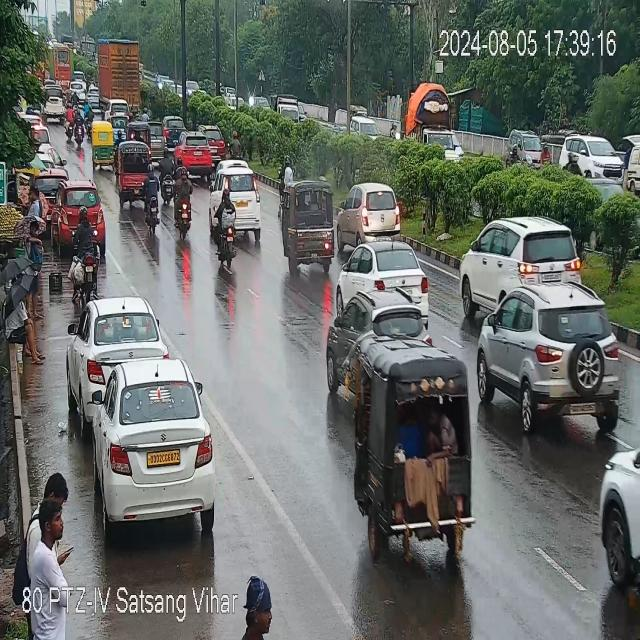2-wheelers: (67, 205, 101, 304), (153, 150, 191, 235), (235, 570, 275, 637), (212, 188, 240, 257), (140, 158, 164, 237), (157, 147, 181, 202), (75, 108, 86, 152), (65, 104, 74, 142)
auto: (353, 333, 479, 561), (284, 182, 338, 270), (118, 145, 152, 205), (127, 121, 165, 158), (92, 123, 118, 169), (162, 114, 185, 146), (128, 121, 152, 142)
car: (476, 275, 628, 429), (92, 359, 216, 529), (322, 288, 430, 399), (460, 218, 582, 312), (73, 295, 161, 401), (592, 428, 637, 586), (330, 242, 433, 309), (210, 166, 263, 250), (51, 183, 107, 262), (336, 184, 400, 248), (552, 132, 624, 176), (177, 134, 212, 174), (509, 127, 542, 169), (41, 80, 67, 124), (202, 128, 227, 158)
pedestrian: (16, 466, 78, 576), (3, 289, 47, 364), (23, 220, 50, 322)
truck: (95, 36, 143, 112)
